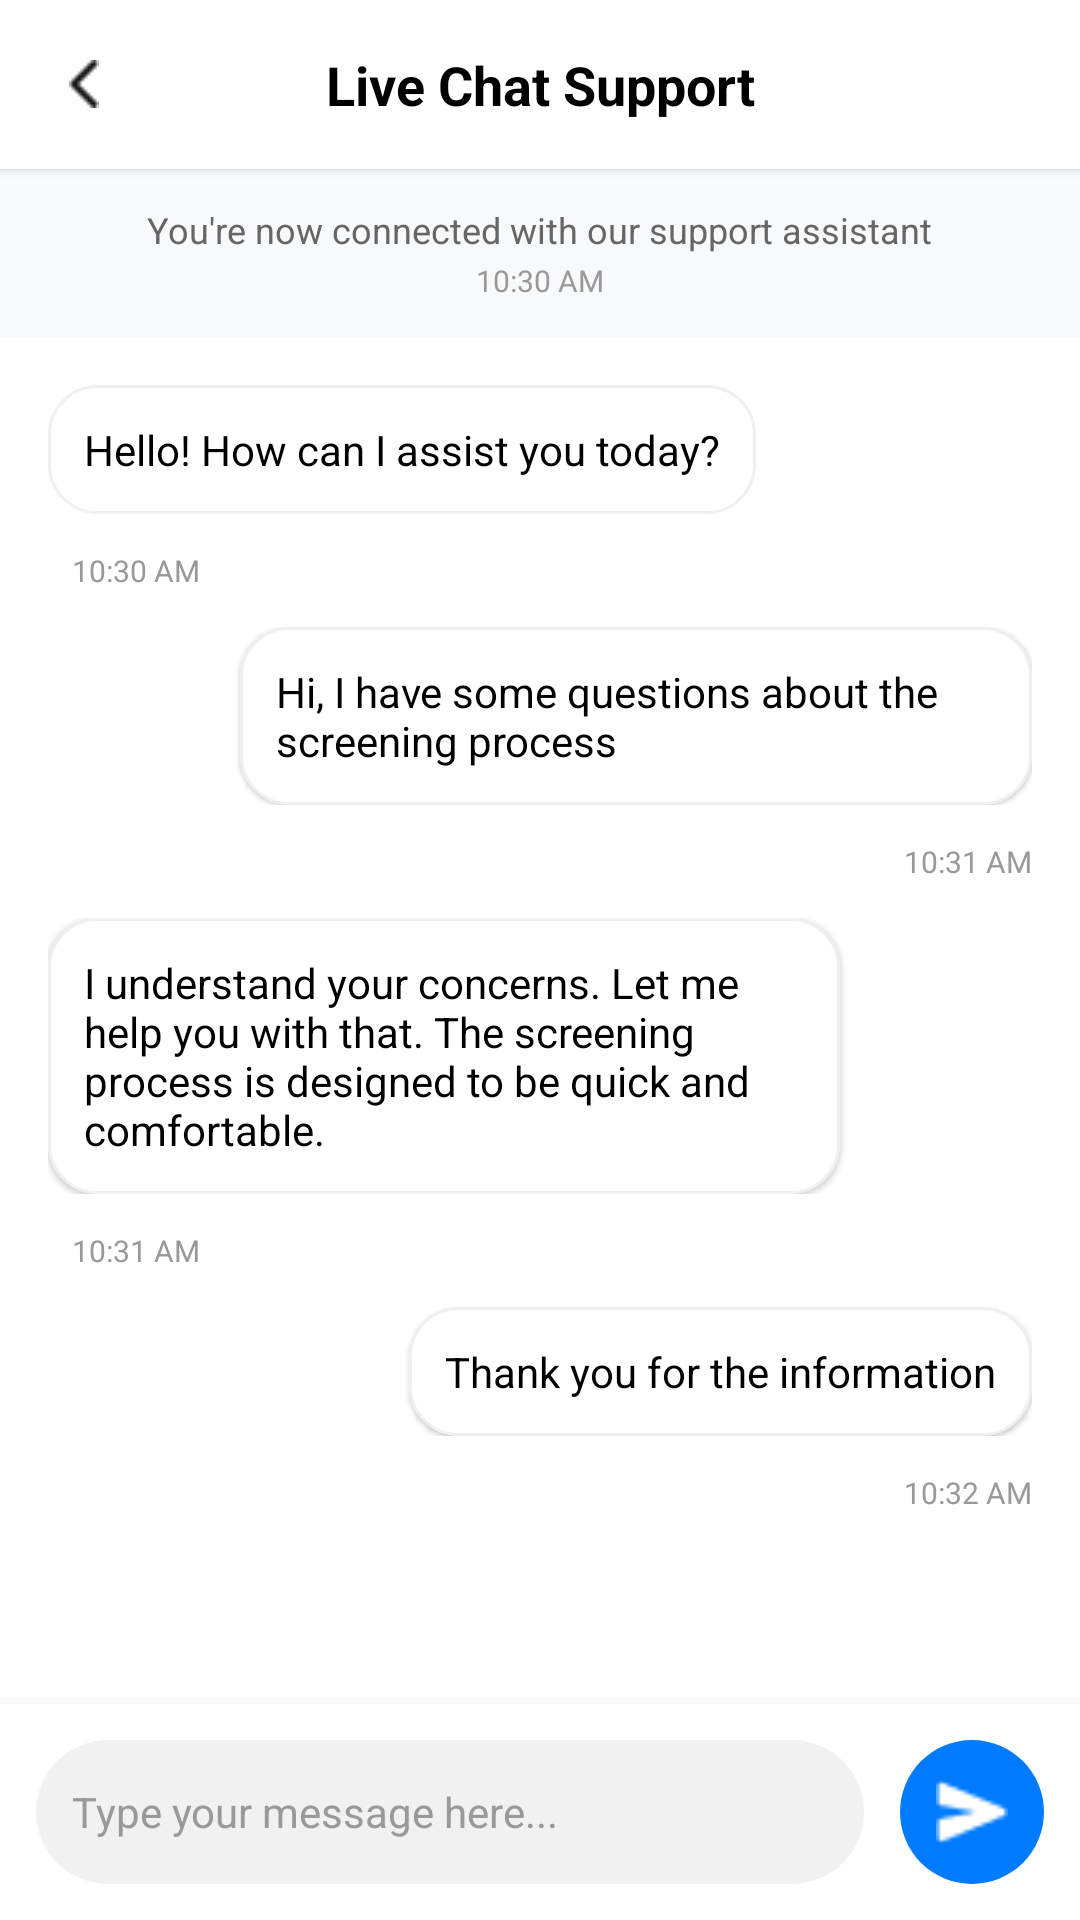

Where to tap for icons on this 1080*1920 app screen, as [x,y]:
Back: [84,84]
Send: [972,1812]
